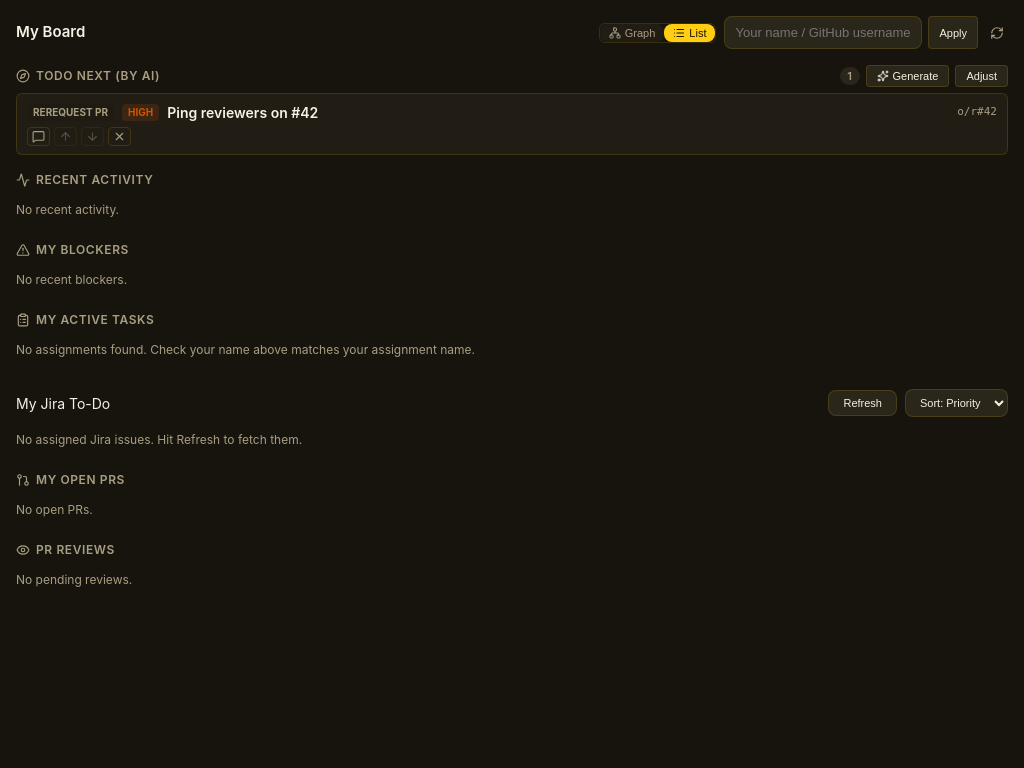
Test: MyBoardPage — TODO NEXT (BY AI) › Generate replaces the list
The width and height of the screenshot is (1024, 768).
Expected: the text "Ping reviewers on #42" is shown, [167,104,318,121]
Click the button "Generate": (907, 76) [866,65,949,87]
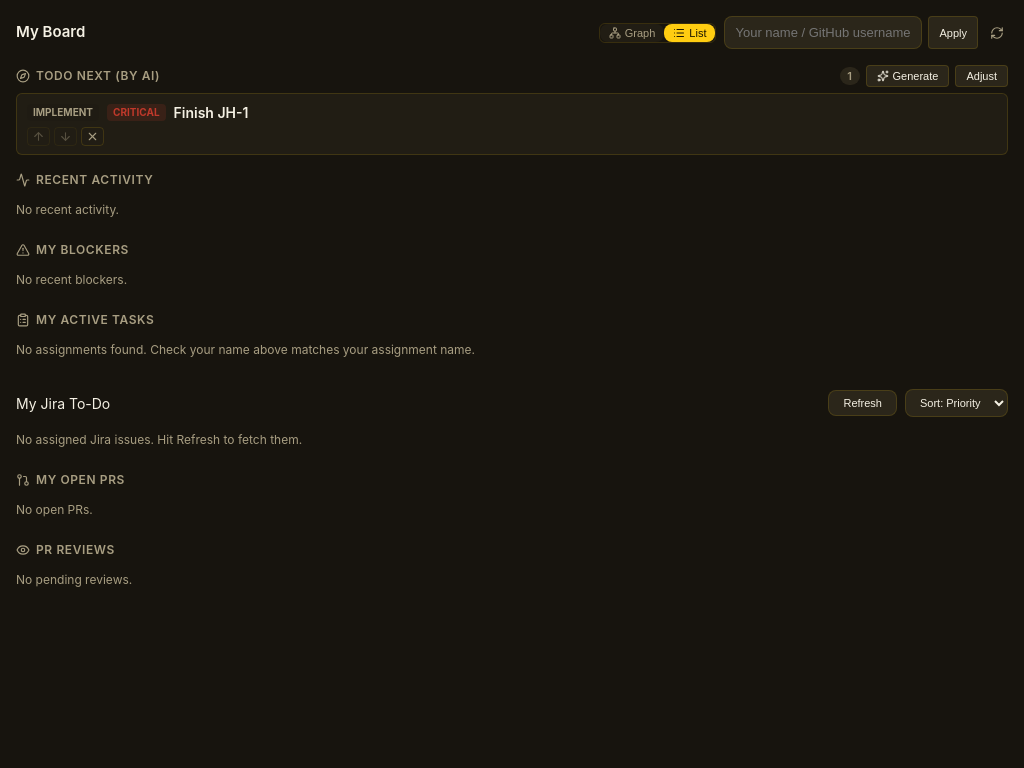
Expected: the text "Finish JH-1" is shown, [174,104,248,121]
